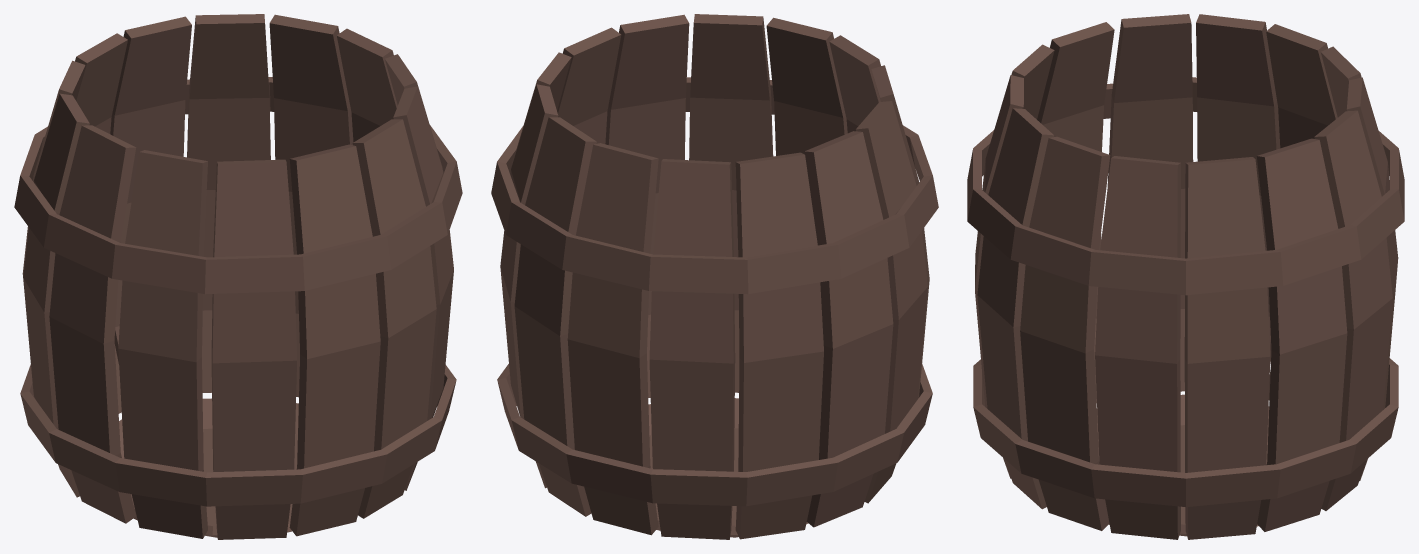
Rendered from SM_barrell_01.fbx.
3 views of the same model, side by side, from view 1: azimuth 30°, elevation 25°; view 2: azimuth 150°, elevation 25°; view 3: azimuth 270°, elevation 25° (orthographic).
Visible parts, largest first — view 1: barrell_01; view 2: barrell_01; view 3: barrell_01.
Boxes of the visible parts, <box> form: barrell_01: <box>14,14,462,539</box>; barrell_01: <box>491,14,938,539</box>; barrell_01: <box>967,14,1404,539</box>.
Bounding box in the file's own units: 96.27 × 93.8 × 93.86.
